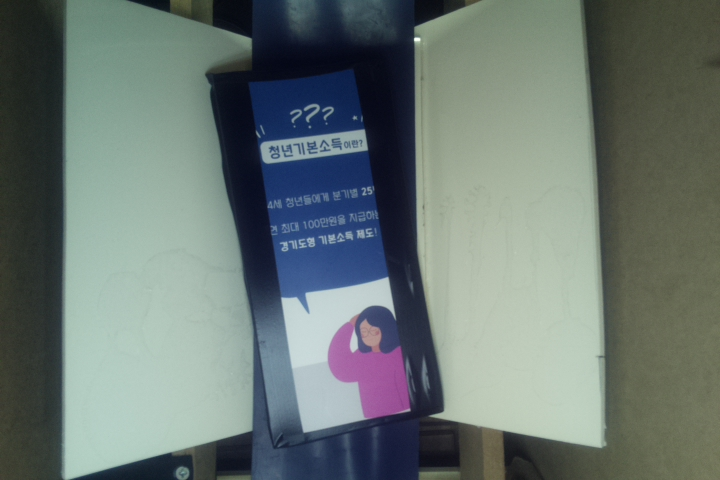book: (205, 47, 446, 452)
